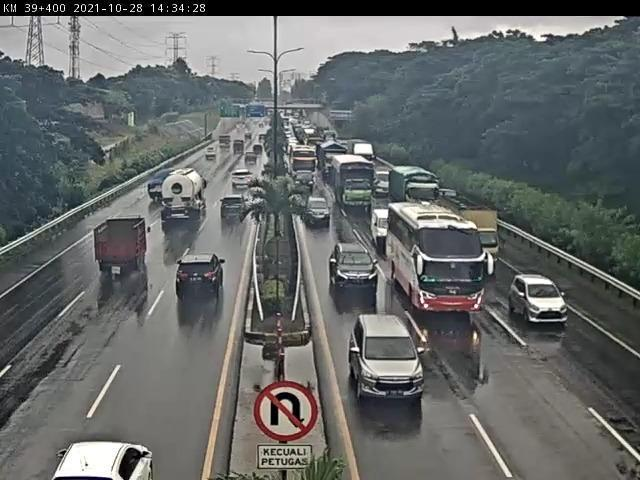bus: (388, 202, 491, 317)
car: (348, 311, 427, 407), (511, 273, 572, 327), (329, 244, 381, 294), (179, 253, 228, 298), (214, 191, 248, 223), (302, 195, 333, 228), (373, 208, 390, 246), (296, 170, 319, 192), (231, 160, 252, 180), (189, 156, 206, 175)
truck: (95, 215, 152, 277), (454, 206, 502, 265), (161, 168, 207, 223), (334, 155, 376, 212), (389, 166, 442, 208), (147, 167, 175, 203)
